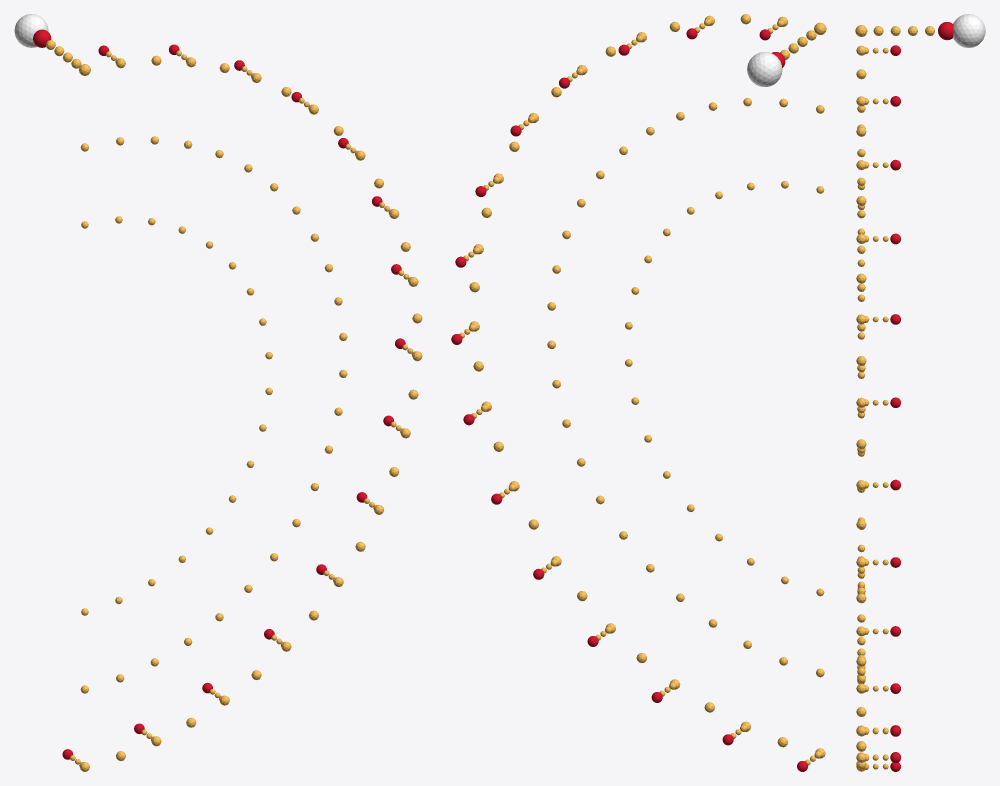
The model's file is necklace_temple_3tier.glb.
3 renders of one model, left to right at view 1: azimuth 30°, elevation 25°; view 2: azimuth 150°, elevation 25°; view 3: azimuth 270°, elevation 25°, orthographic. The views are drawn at different scales.
Visible parts, largest first — view 1: world; view 2: world; view 3: world.
Part boxes in pixels (box(x1,y1,x2,y2)): world: box(14, 14, 422, 771); world: box(451, 14, 826, 771); world: box(855, 14, 985, 771).
Size of the model in its own units: 0.0951 by 0.1853 by 0.0304.
Materials: 1 (1 with a texture image).
